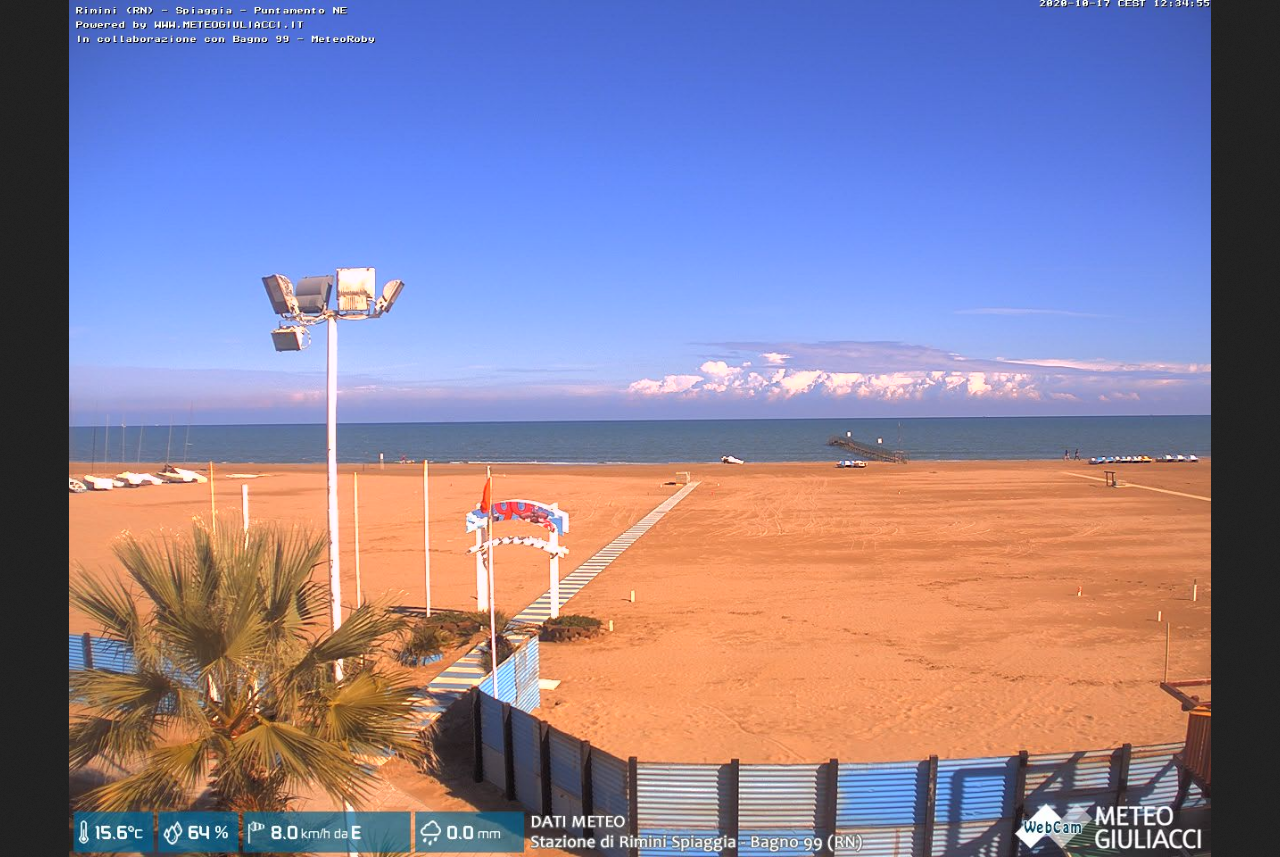no: (473, 470, 495, 519)
